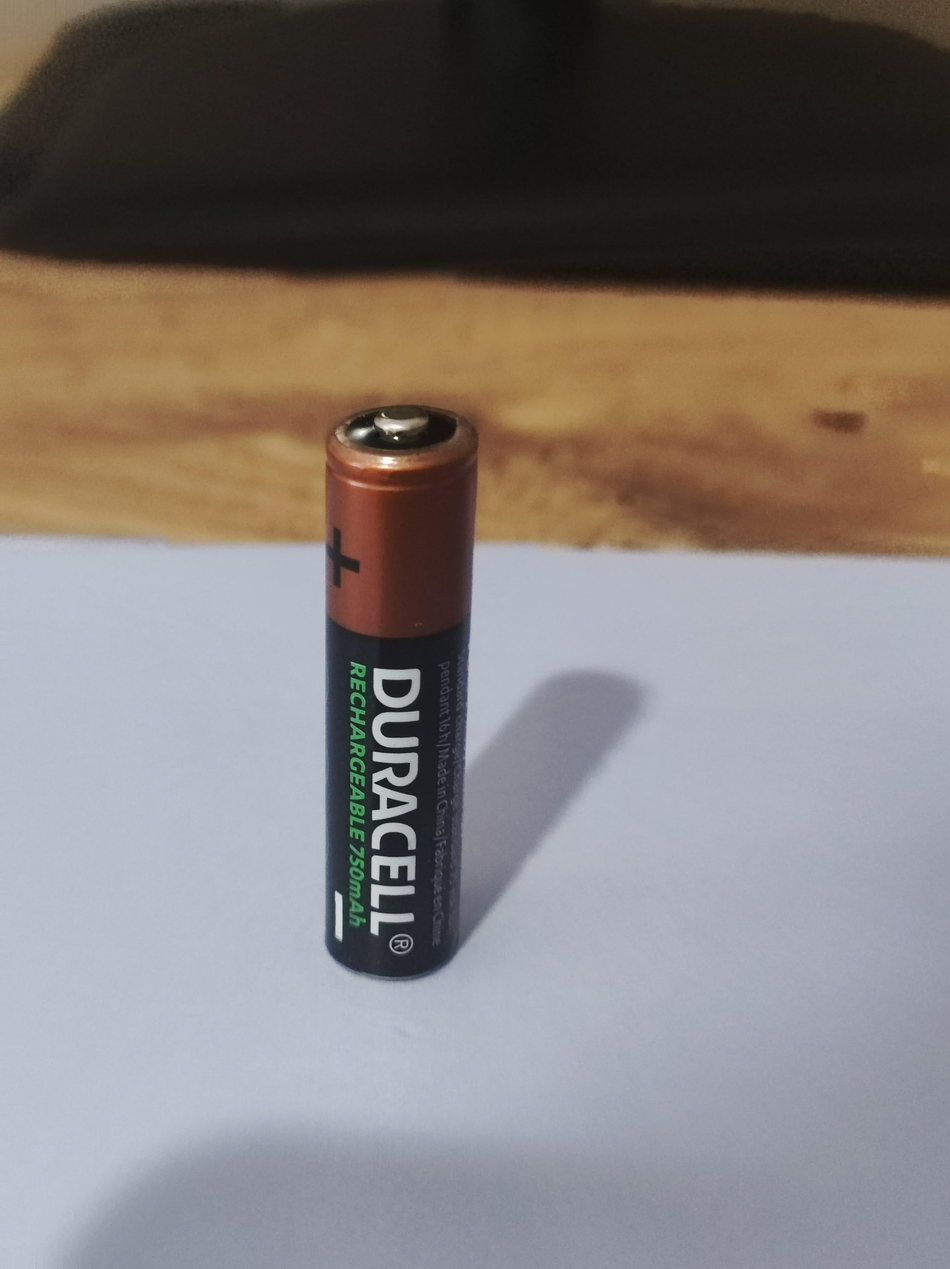AAA: (322, 402, 479, 980)
